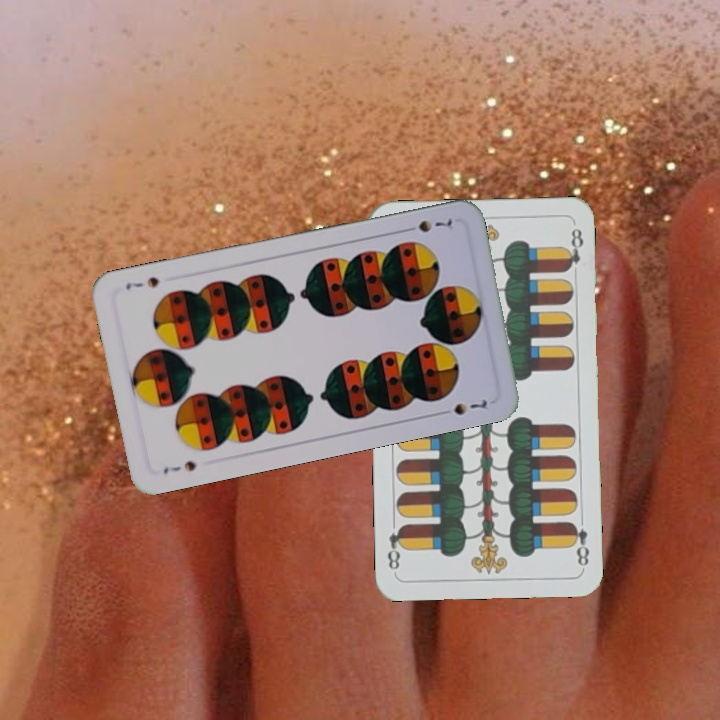E8: (566, 518, 592, 568)
S7: (399, 215, 455, 235), (159, 456, 200, 477)
